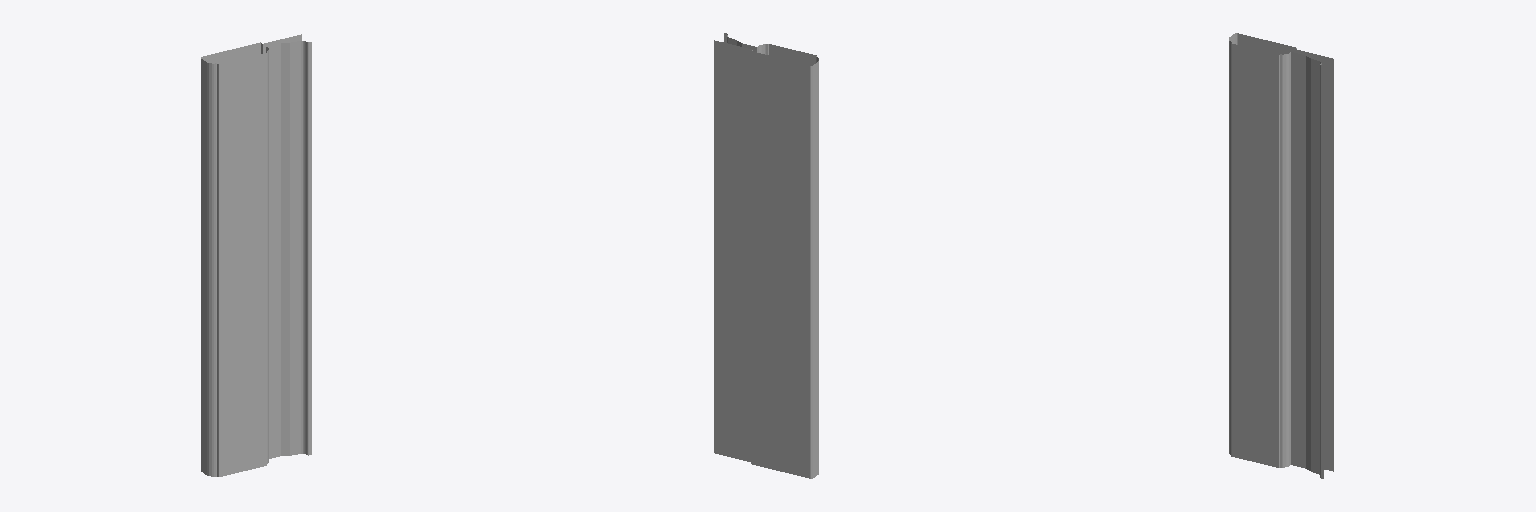
Rendered from original-93.obj.
3 renders of one model, left to right at view 1: azimuth 30°, elevation 25°; view 2: azimuth 150°, elevation 25°; view 3: azimuth 330°, elevation 25°, orthographic.
Parts seen in each view (by area): view 1: LT_11_CL1/LT_11_CL/mesh45/mesh45-geometry#mesh45-geometry; view 2: LT_11_CL1/LT_11_CL/mesh45/mesh45-geometry#mesh45-geometry; view 3: LT_11_CL1/LT_11_CL/mesh45/mesh45-geometry#mesh45-geometry.
Part boxes in pixels (left/top/right/bottom): LT_11_CL1/LT_11_CL/mesh45/mesh45-geometry#mesh45-geometry: left=201, top=34, right=311, bottom=476; LT_11_CL1/LT_11_CL/mesh45/mesh45-geometry#mesh45-geometry: left=714, top=33, right=818, bottom=478; LT_11_CL1/LT_11_CL/mesh45/mesh45-geometry#mesh45-geometry: left=1229, top=33, right=1333, bottom=478.
Bounding box in the file's own units: 0.1303 × 0.5124 × 0.027.